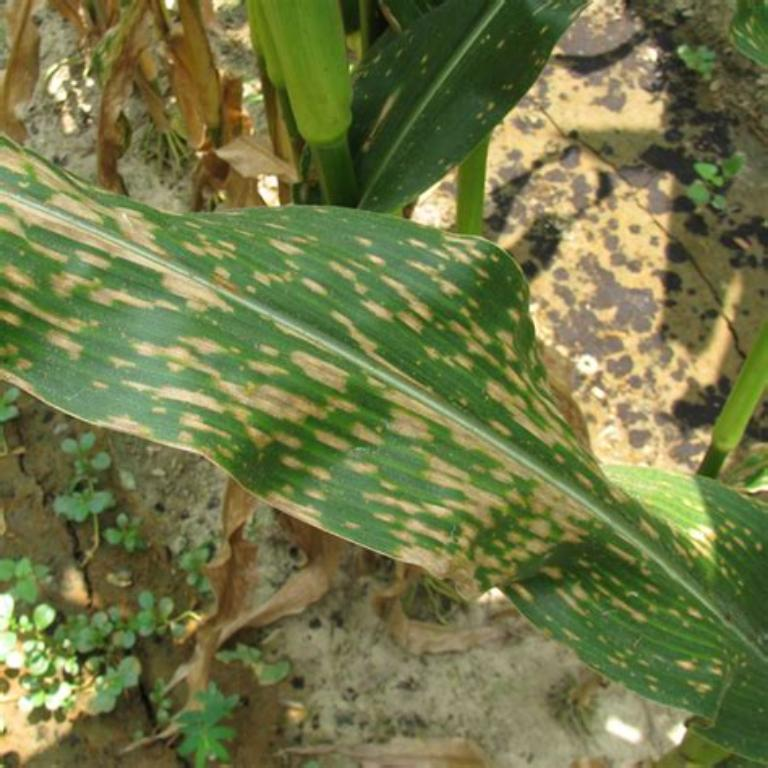blight: (176, 274, 485, 469)
